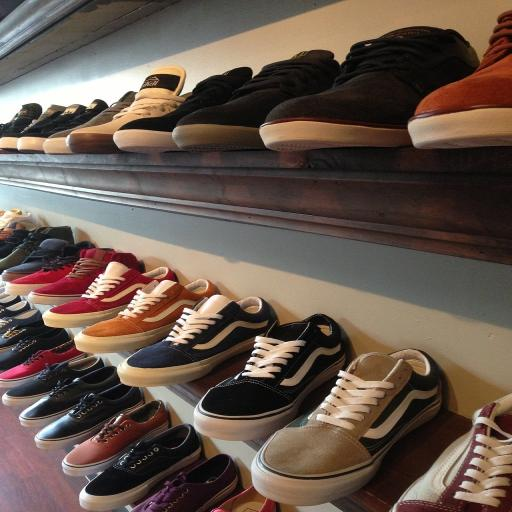shoe: (251, 349, 441, 506), (118, 314, 349, 440), (260, 26, 480, 151), (173, 49, 339, 151), (118, 294, 277, 386), (407, 10, 512, 148), (392, 394, 512, 512), (113, 67, 252, 153), (79, 423, 201, 511), (75, 279, 218, 353), (66, 66, 186, 154), (43, 261, 177, 328), (62, 400, 171, 476), (131, 453, 271, 512), (27, 248, 141, 318), (0, 241, 95, 317), (35, 384, 144, 450), (19, 365, 120, 427), (43, 91, 136, 154), (2, 356, 105, 408), (0, 340, 85, 388), (0, 329, 70, 387), (0, 226, 75, 280), (131, 485, 277, 512), (42, 98, 108, 154), (16, 104, 86, 154), (2, 104, 66, 152), (1, 238, 69, 282), (0, 308, 53, 353), (0, 103, 42, 152), (0, 228, 31, 258), (0, 209, 37, 231), (0, 294, 32, 319), (0, 210, 37, 231), (0, 285, 23, 318), (0, 220, 25, 243)
